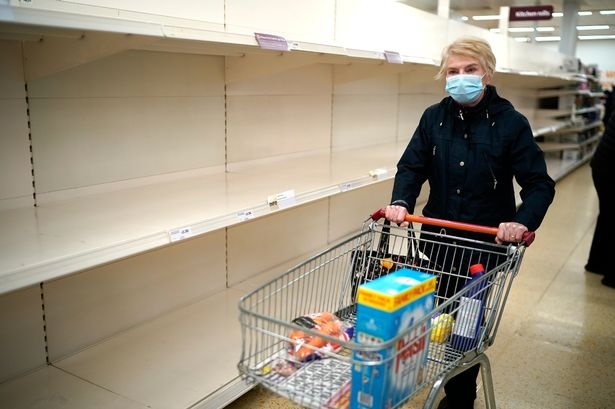with_mask: (442, 48, 487, 105)
